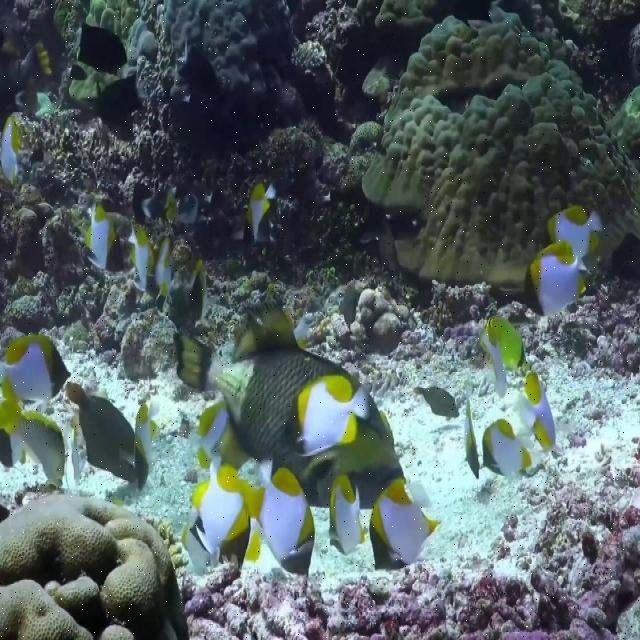fish: (176, 302, 404, 509), (328, 474, 440, 571), (246, 468, 314, 574), (284, 375, 368, 456), (525, 239, 587, 316), (0, 334, 70, 399), (538, 206, 601, 255)
